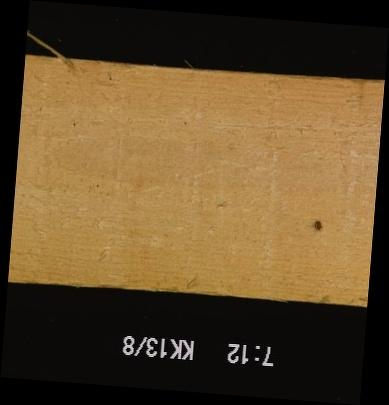small_knot: (312, 217, 324, 233)
